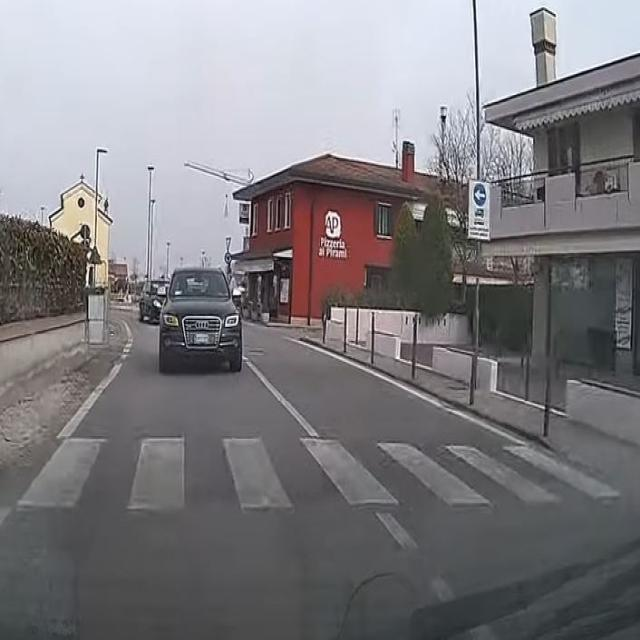Pedestrian crosswalk: (44, 447, 584, 568), (93, 196, 123, 248)
